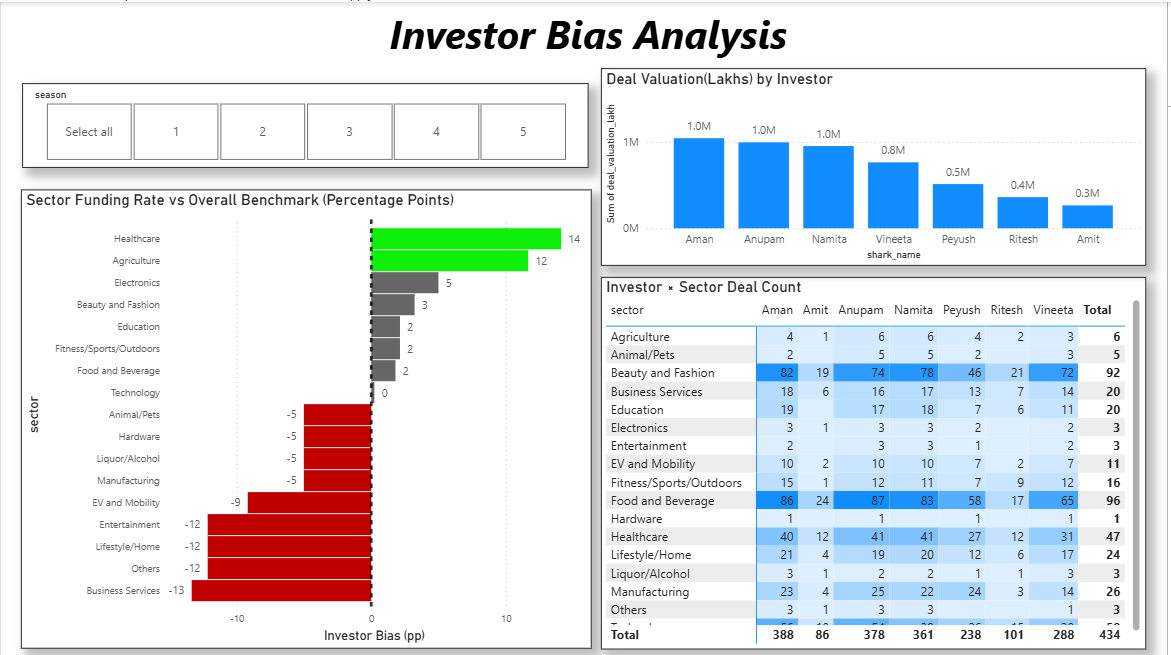

The page's visual inventory and layout, read from the dashboard file:
{"tool":"powerbi","page":{"name":"Investor Bias Analysis","canvas":[1280,720],"ordinal":1},"visuals":[{"type":"textbox","box":[9.7,0,1270.3,72.9],"z":0},{"type":"clusteredBarChart","title":"Sector Funding Rate vs Overall Benchmark (Percentage Points)","fields":{"Category":["pitches.sector"],"Y":["Measures_table.Investor Bias (pp)"]},"box":[21.4,206.2,626.4,503.8],"z":1000},{"type":"pivotTable","title":"Investor × Sector Deal Count","fields":{"Rows":["shark_investment.sector"],"Values":["Count(shark_investment.startup_name)"],"Columns":["shark_investment.shark_name"]},"box":[658.5,301.5,598.2,408.5],"z":2000},{"type":"slicer","fields":{"Values":["shark_investment.season"]},"box":[23.3,89.5,621.5,92.4],"z":3000},{"type":"clusteredColumnChart","title":"Deal Valuation(Lakhs) by Investor","fields":{"Category":["shark_investment.shark_name"],"Y":["Sum(shark_investment.deal_valuation_lakh)"]},"box":[658.5,72.9,598.2,216.9],"z":4000}]}

Visuals, with their boxes in screenshot pixels (x1, y1, x2, y2), scaled from the page's 1280x720 canvas onto the 1171x655 screenshot:
textbox: {"left": 9, "top": 0, "right": 1170, "bottom": 66}
"Sector Funding Rate vs Overall Benchmark (Percentage Points)" clusteredBarChart: {"left": 20, "top": 188, "right": 593, "bottom": 646}
"Investor × Sector Deal Count" pivotTable: {"left": 602, "top": 274, "right": 1150, "bottom": 646}
slicer - shark_investment.season: {"left": 21, "top": 81, "right": 590, "bottom": 165}
"Deal Valuation(Lakhs) by Investor" clusteredColumnChart: {"left": 602, "top": 66, "right": 1150, "bottom": 264}
